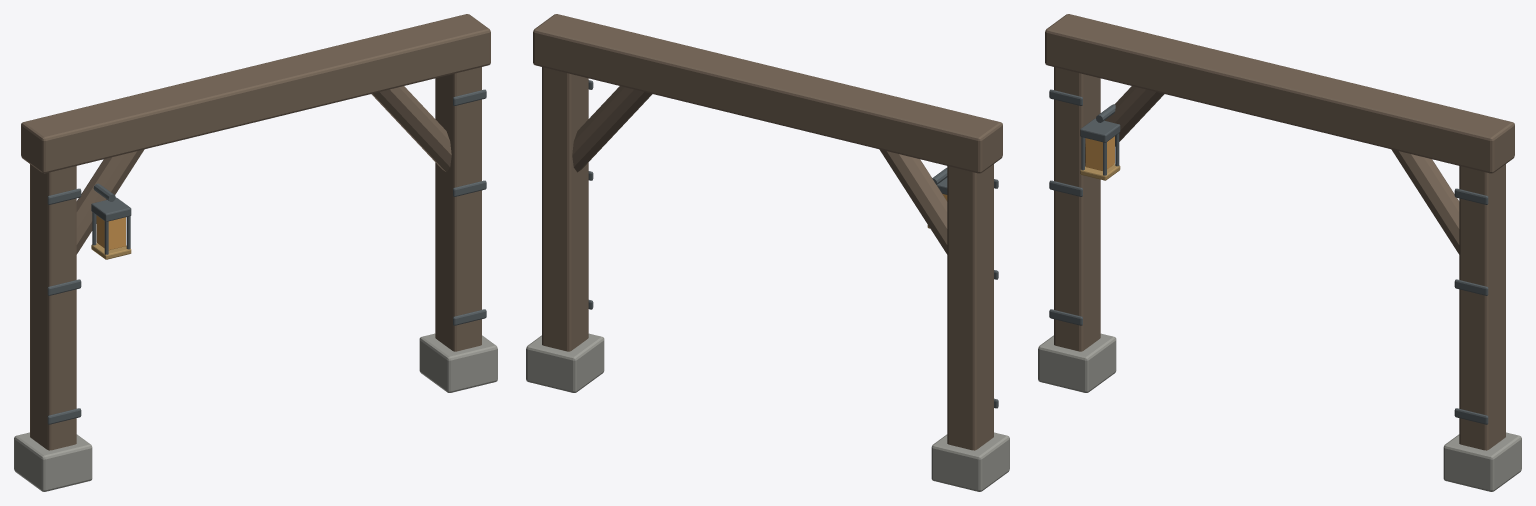
File: mine_support.glb
The picture shows the model from 3 angles, left to right: view 1: azimuth 30°, elevation 25°; view 2: azimuth 150°, elevation 25°; view 3: azimuth 330°, elevation 25°; orthographic projection.
Visible parts, largest first — view 1: Body.086; view 2: Body.086; view 3: Body.086.
Boxes of the visible parts, <box> form: Body.086: <box>14,14,497,491</box>; Body.086: <box>526,14,1009,491</box>; Body.086: <box>1038,14,1521,491</box>.
Size of the model in its own units: 3.15 by 2.32 by 0.48.
